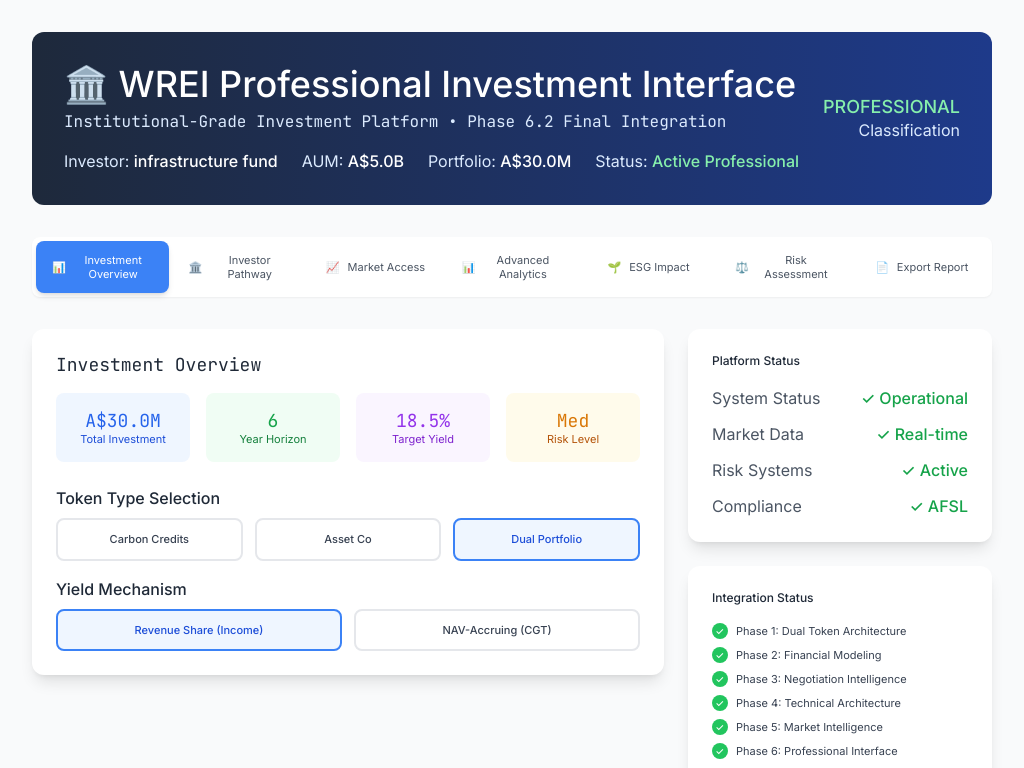
Scenario: Phase 6.2: Risk Assessment › displays risk tools
Click the text "Risk Assessment". click: (796, 267)
box: left=764, top=253, right=828, bottom=281
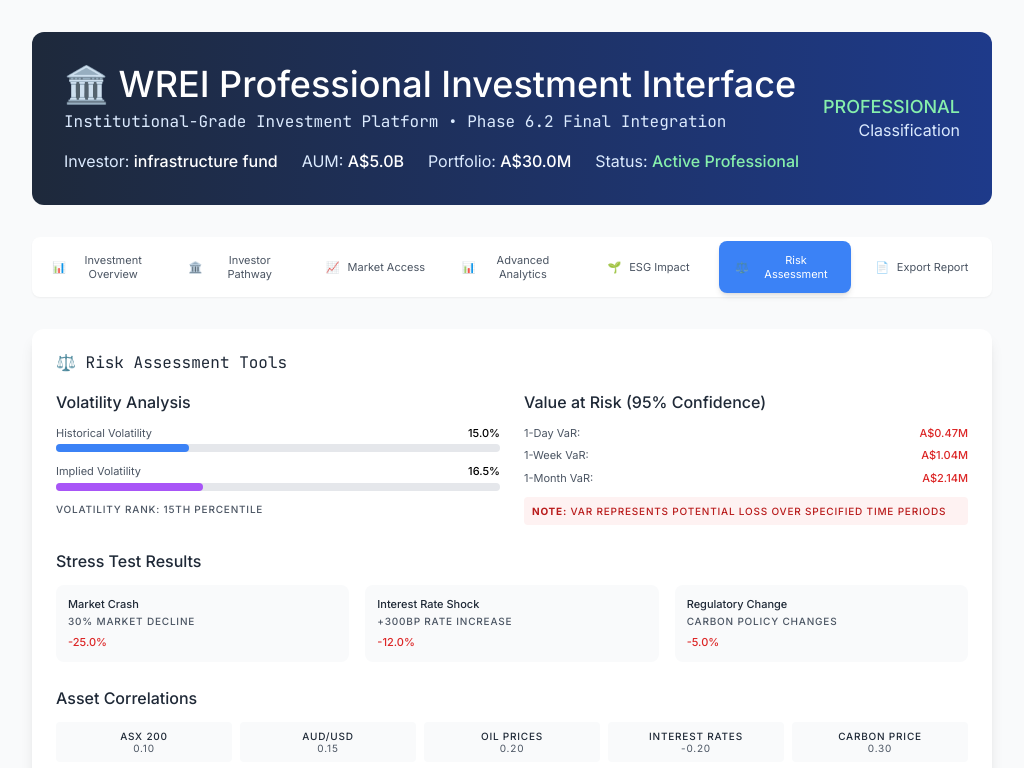
Expected: the heading "Volatility Analysis" is shown, left=56, top=392, right=191, bottom=412
Expected: the heading "Stress Test Results" is shown, left=56, top=551, right=202, bottom=571
Expected: the heading "Asset Correlations" is shown, left=56, top=688, right=197, bottom=708
